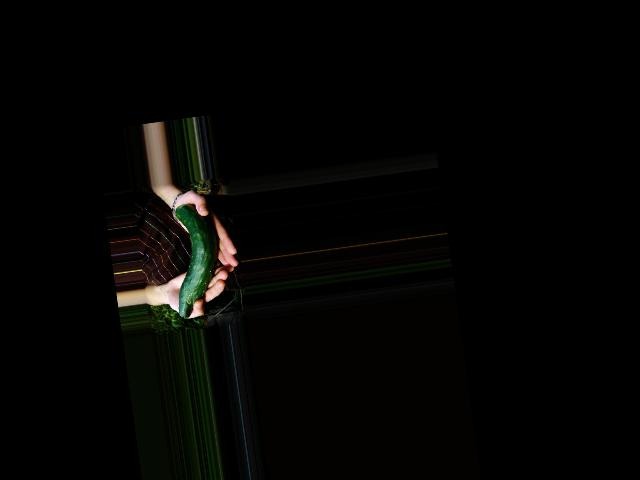cucumber: (164, 200, 226, 318)
